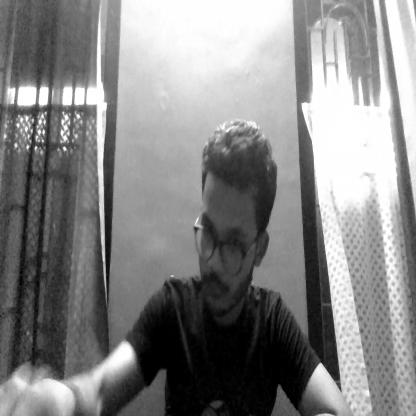Distracted: (194, 127, 273, 313)
